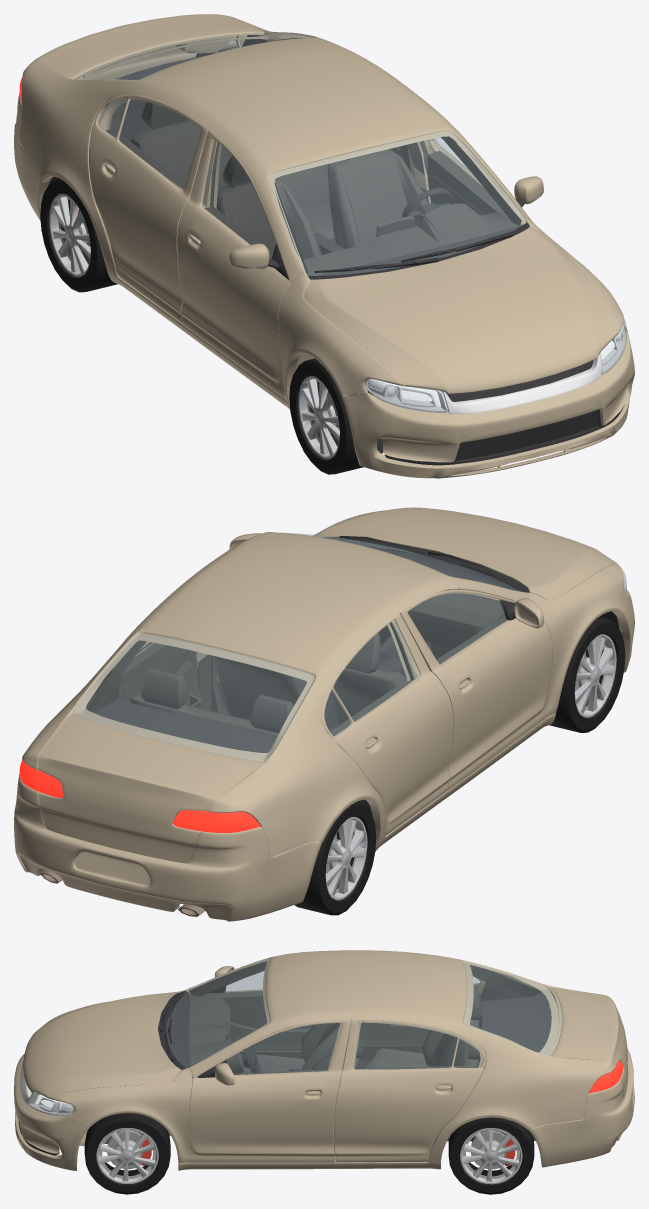
The model's file is garilla-rig-sedan.glb.
The picture shows the model from 3 angles, top to bottom: view 1: azimuth 30°, elevation 25°; view 2: azimuth 150°, elevation 25°; view 3: azimuth 270°, elevation 25°; orthographic projection. The views are drawn at different scales.
Parts seen in each view (by area): view 1: body__shell, body__hood, body__glass, body__interior, body__bumper_front, body__door_fr, body__door_rr, body__trunk, body__fender_r, wheel__fr, wheel__rr, body__door_fl (+4 smaller); view 2: body__shell, body__glass, body__trunk, body__bumper_rear, body__door_fr, body__door_rr, body__interior, body__hood, wheel__fr, wheel__rr, body__fender_r, frame__floor (+3 smaller); view 3: body__shell, body__door_fl, body__door_rl, body__glass, body__hood, body__interior, wheel__fl, body__fender_l, body__bumper_rear, wheel__rl, body__trunk, body__bumper_front (+6 smaller).
Part boxes in pixels (<box>): body__shell: <box>19,14,533,409</box>; body__hood: <box>304,226,617,393</box>; body__glass: <box>73,32,529,279</box>; body__interior: <box>110,38,521,276</box>; body__bumper_front: <box>342,328,634,478</box>; body__door_fr: <box>177,130,291,396</box>; body__door_rr: <box>89,94,208,323</box>; body__trunk: <box>38,14,264,80</box>; body__fender_r: <box>278,272,404,453</box>; wheel__fr: <box>289,358,363,474</box>; wheel__rr: <box>40,178,117,292</box>; body__door_fl: <box>426,138,543,216</box>; body__shell: <box>19,532,555,857</box>; body__glass: <box>71,532,529,761</box>; body__trunk: <box>37,713,264,863</box>; body__bumper_rear: <box>14,774,321,921</box>; body__door_fr: <box>400,589,552,790</box>; body__door_rr: <box>322,613,453,835</box>; body__interior: <box>85,589,504,738</box>; body__hood: <box>313,507,617,600</box>; wheel__fr: <box>549,616,625,732</box>; wheel__rr: <box>294,801,376,915</box>; body__fender_r: <box>527,564,627,718</box>; frame__floor: <box>86,699,372,814</box>; body__shell: <box>178,950,620,1170</box>; body__door_fl: <box>188,1020,350,1162</box>; body__door_rl: <box>334,1019,485,1162</box>; body__glass: <box>158,959,562,1069</box>; body__hood: <box>22,991,180,1098</box>; body__interior: <box>189,961,541,1108</box>; wheel__fl: <box>84,1113,170,1194</box>; body__fender_l: <box>49,1067,192,1163</box>; body__bumper_rear: <box>529,1049,634,1167</box>; wheel__rl: <box>448,1117,534,1194</box>; body__trunk: <box>547,987,628,1098</box>; body__bumper_front: <box>14,1054,89,1170</box>.
Size of the model in its own units: 2.11 by 1.5 by 4.98.
